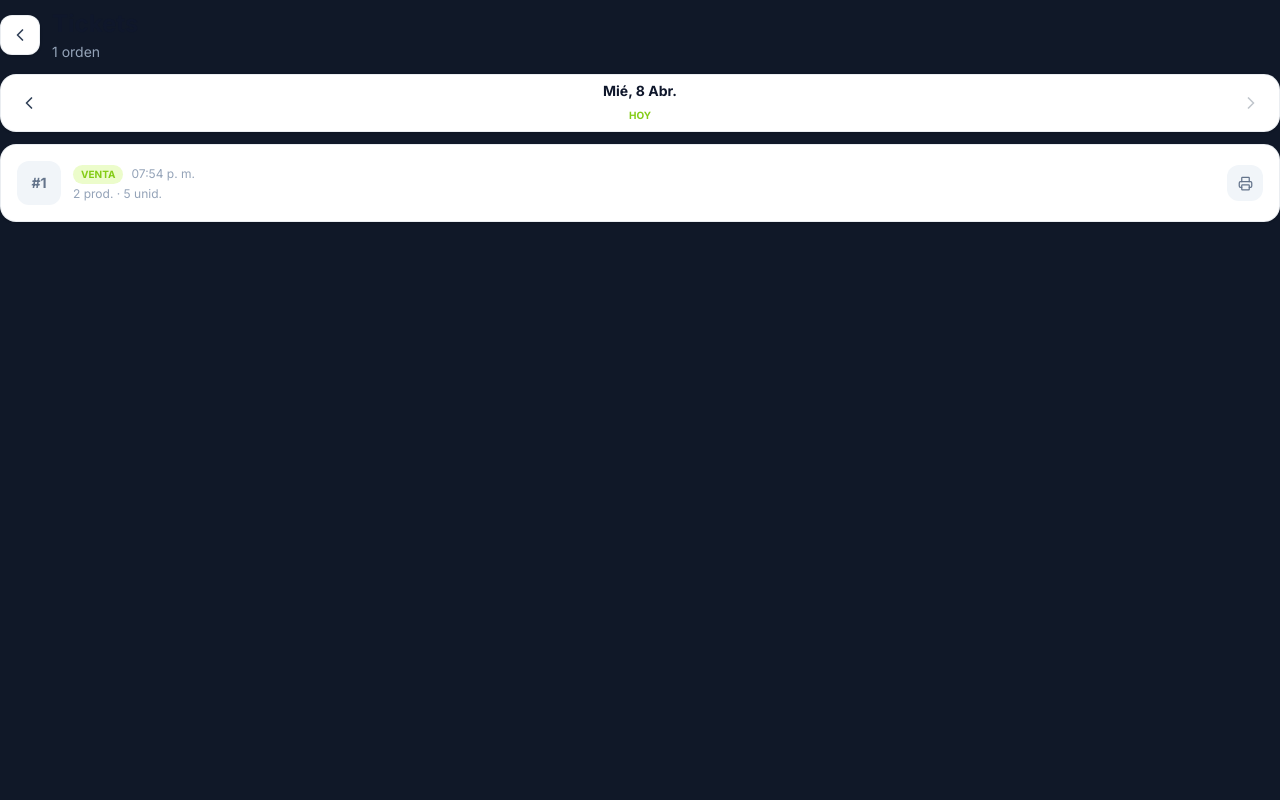
Test: TiendaTicketsPage › abre modal al hacer click en una orden
The image size is (1280, 800).
Click the text "#1". click: [39, 183]
box: [31,173,46,193]
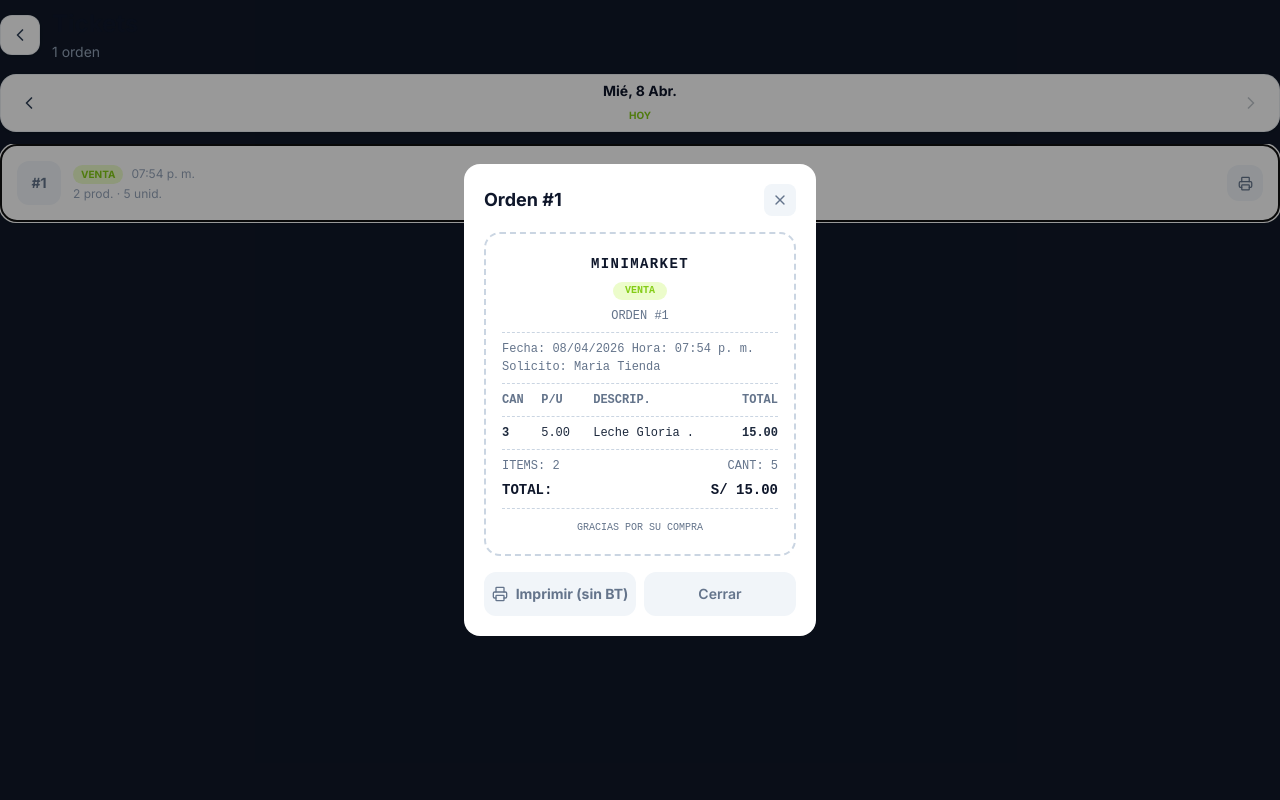
Expected: the text "MINIMARKET" is shown, [591,256,689,272]
Expected: the text "ORDEN #1" is shown, [611,308,669,322]
